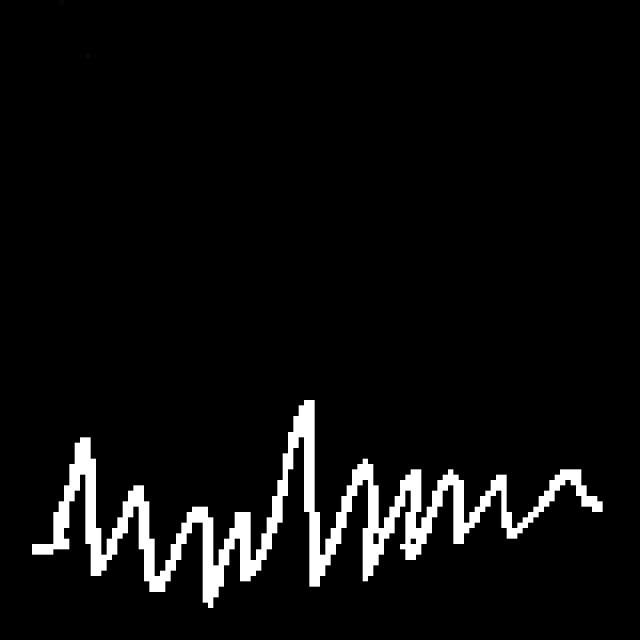resistor: (56, 396, 585, 624)
